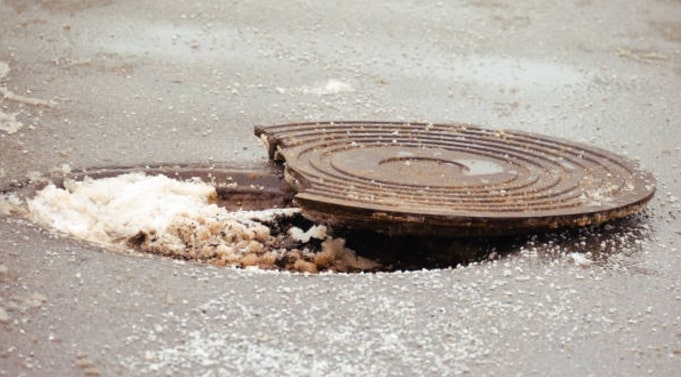open_manhole: (33, 176, 516, 275)
